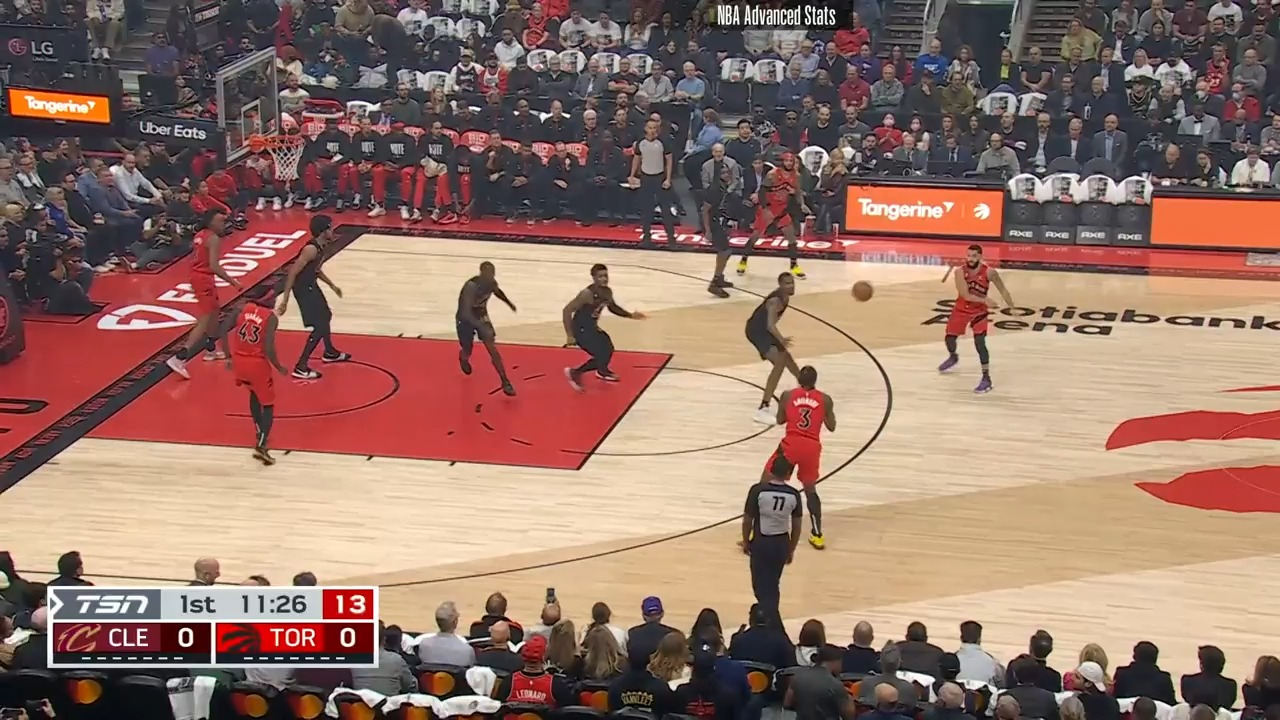net: (247, 128, 307, 182)
player: (765, 363, 839, 554), (159, 210, 236, 383), (271, 218, 348, 384), (937, 239, 1017, 395), (559, 261, 647, 396), (226, 286, 290, 470), (448, 260, 518, 401), (737, 269, 800, 422), (737, 151, 807, 282), (703, 162, 737, 302)
referee: (731, 454, 806, 637), (628, 118, 677, 251)
